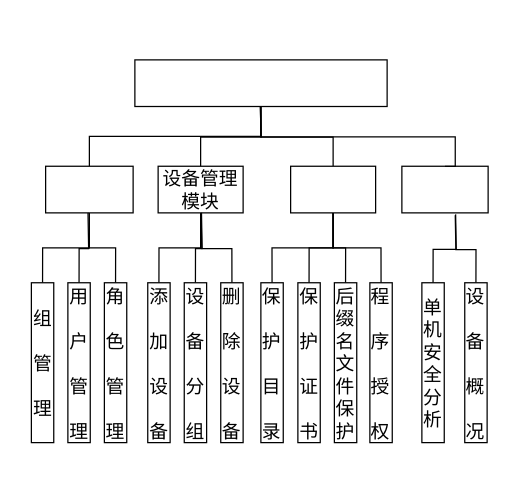
This 518x485 diagram has some shape labels left out. Each missing label, with the centre of its shape:
中央管控平台: the point at 260,82
大屏展示模块: the point at 444,189
用户中心模块: the point at 88,189
设备加固模块: the point at 332,189
